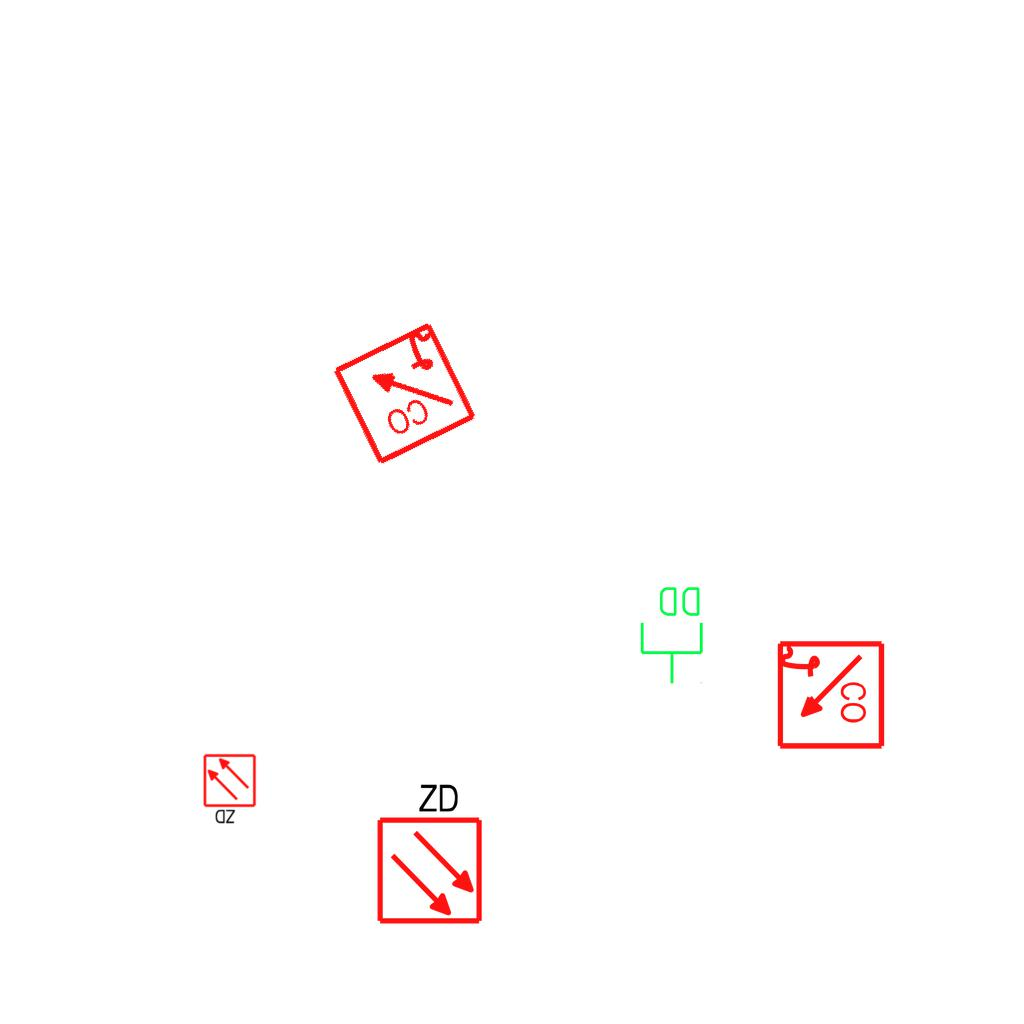Datenanschluss_zweifach: (638, 583, 707, 686)
ROA_Rauchmelder_optisch_mit_Signalgeber_(Sockelsirene): (327, 316, 480, 469), (773, 639, 886, 752)
ZD_Melder_in_Zwischendecke_mit_Revisionsoeffnung_mind_40_x_40_cm: (371, 777, 485, 926), (202, 753, 259, 827)
